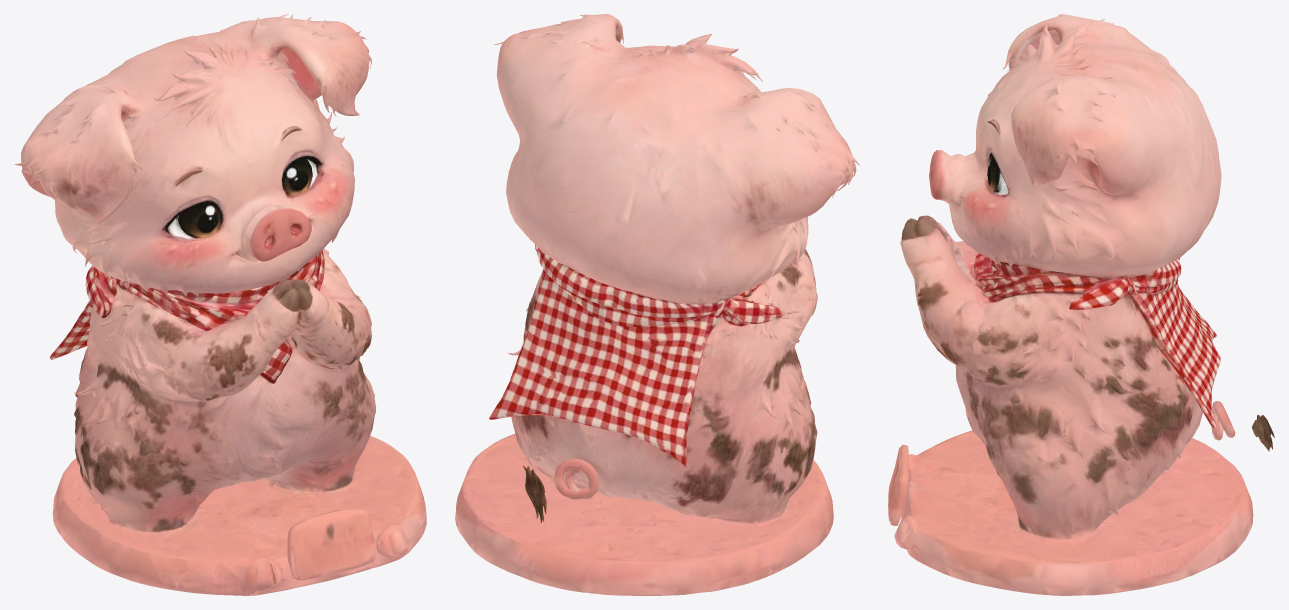
The model's file is cozy-checker-piglet.glb.
3 renders of one model, left to right at view 1: azimuth 30°, elevation 25°; view 2: azimuth 150°, elevation 25°; view 3: azimuth 270°, elevation 25°, orthographic. The views are drawn at different scales.
Size of the model in its own units: 1.55 by 1.9 by 1.43.
Materials: 1 (1 with a texture image).
